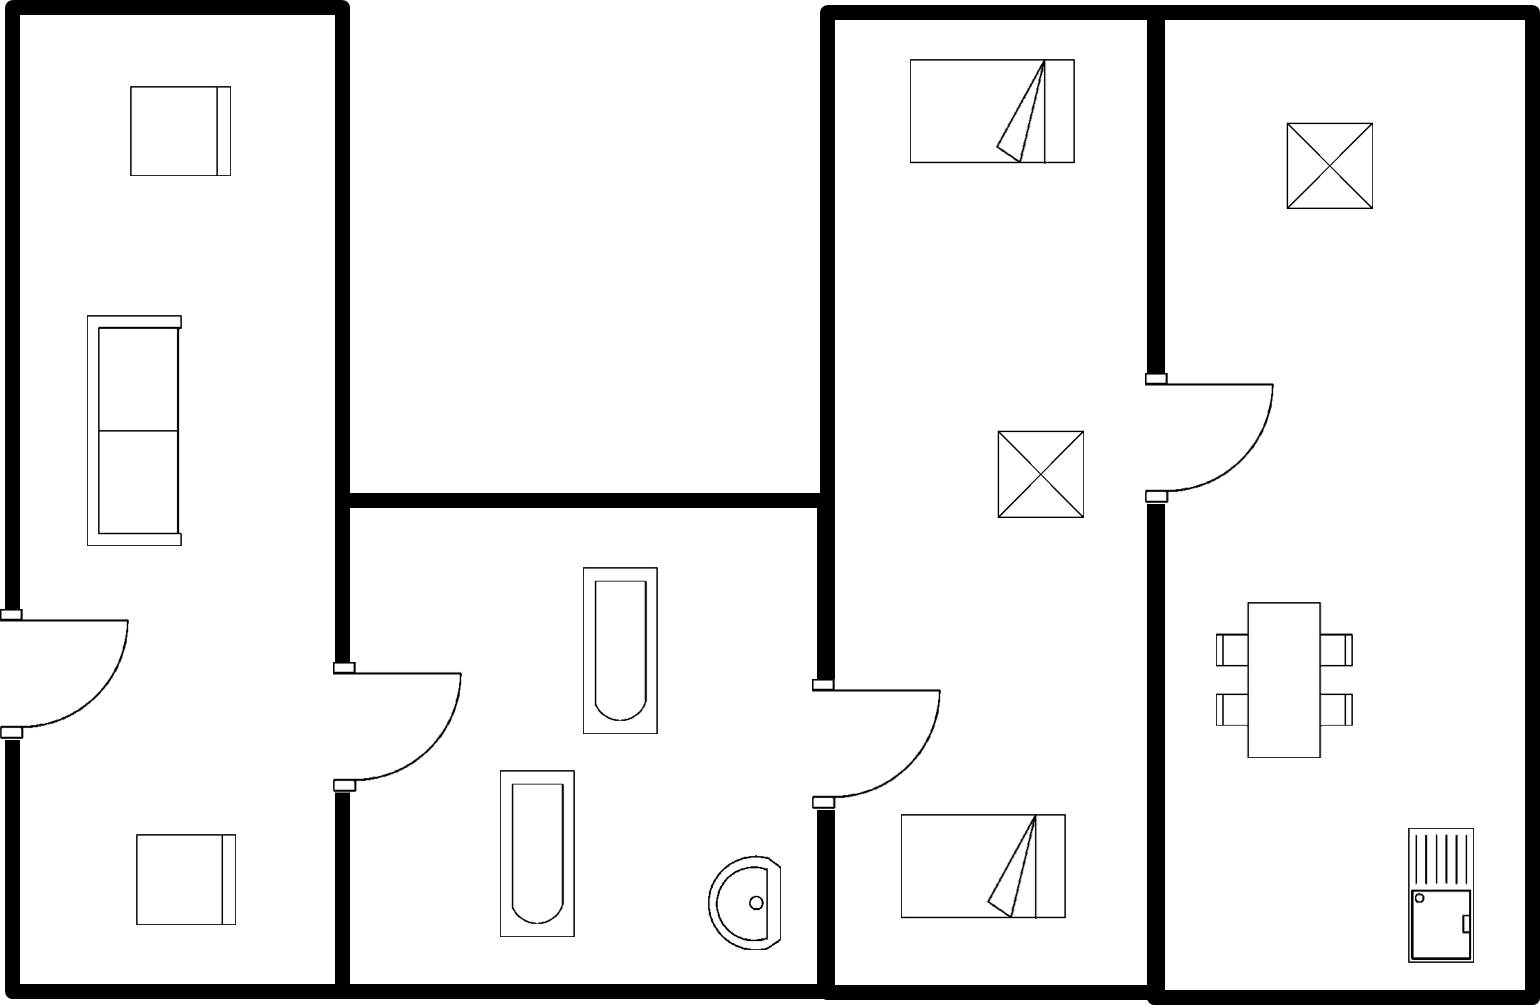bed: (903, 49, 1080, 173), (895, 810, 1072, 924)
coffee_table: (1282, 115, 1381, 220), (992, 423, 1092, 525)
dining_table: (1206, 597, 1359, 767)
large_sofa: (80, 310, 195, 555)
sink: (1400, 820, 1480, 971)
small_sink: (698, 848, 792, 957)
small_sofa: (128, 826, 246, 934), (122, 80, 237, 183)
tub: (492, 761, 582, 949), (574, 561, 666, 743)
